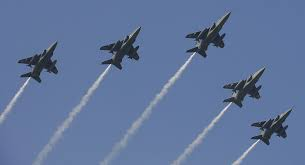fighter: (184, 9, 233, 60), (220, 62, 270, 110), (15, 37, 64, 84), (98, 23, 145, 72), (249, 103, 297, 147)
